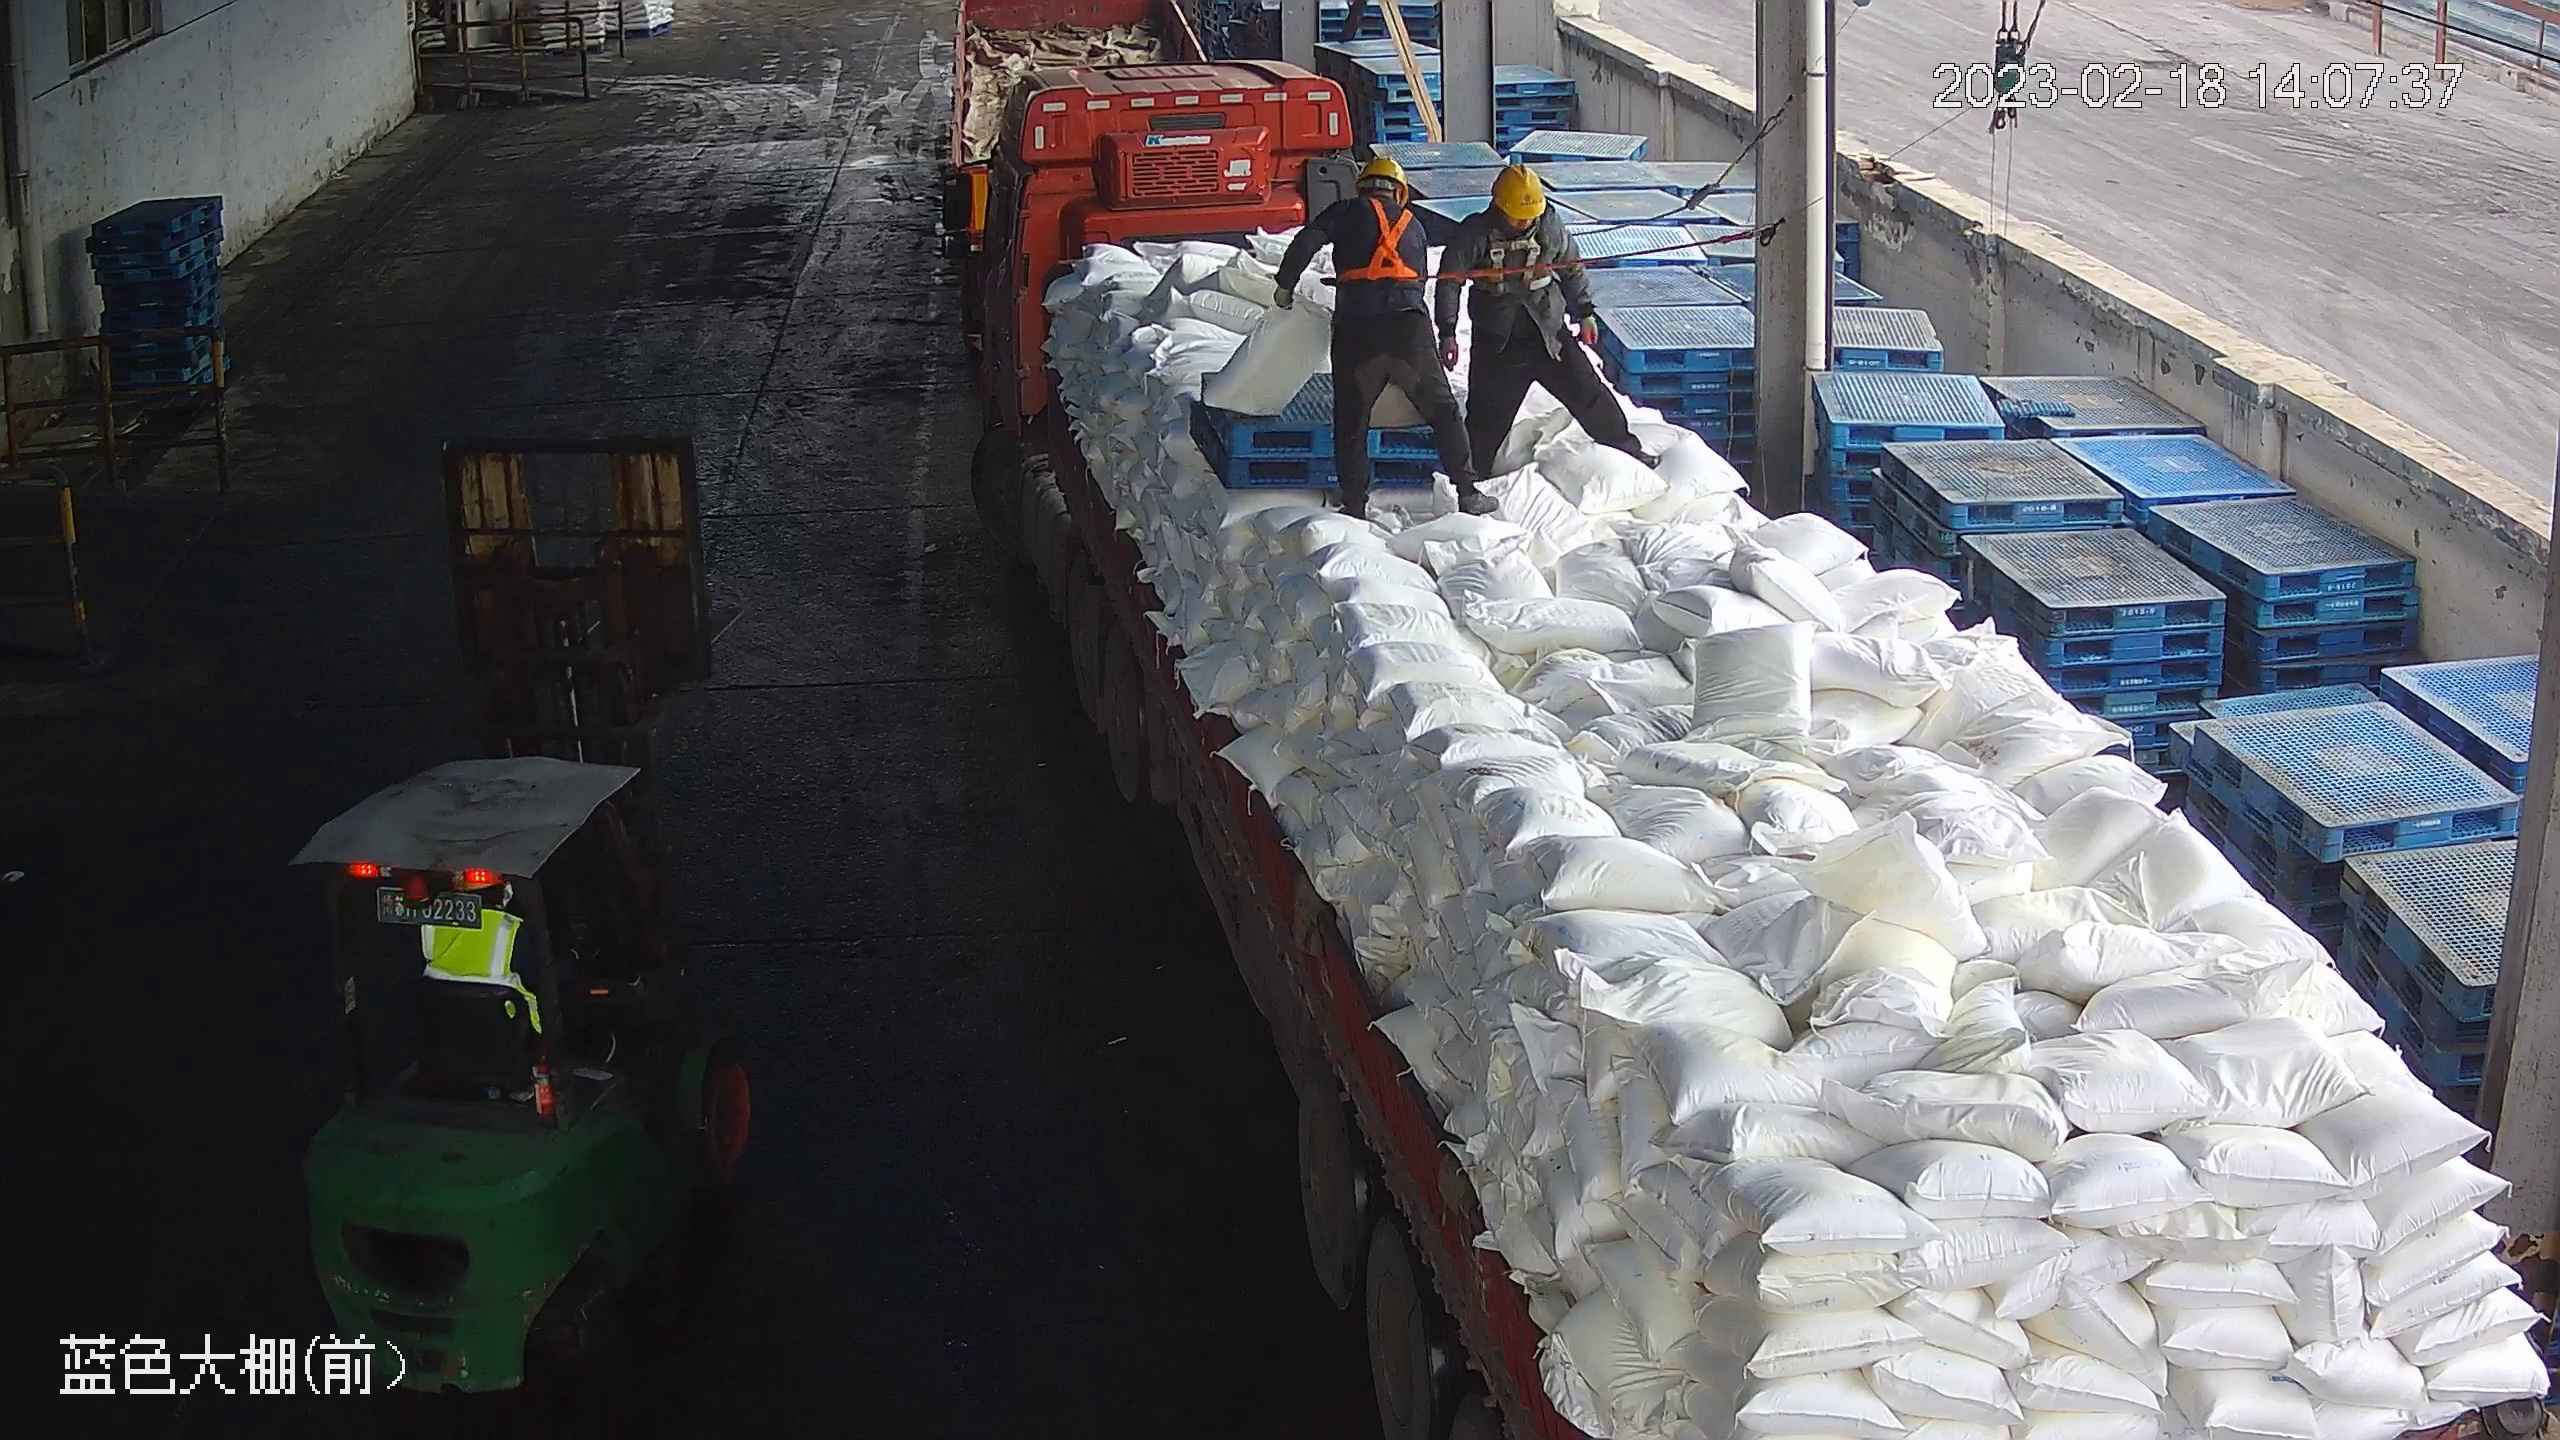belt: (1340, 206, 1430, 291), (1481, 215, 1564, 298)
head: (1330, 157, 1430, 267), (1464, 167, 1574, 266)
helmet: (1351, 154, 1415, 200), (1493, 169, 1544, 222)
people: (1276, 157, 1501, 518), (1437, 161, 1669, 478)
truck: (939, 50, 2560, 1440)
